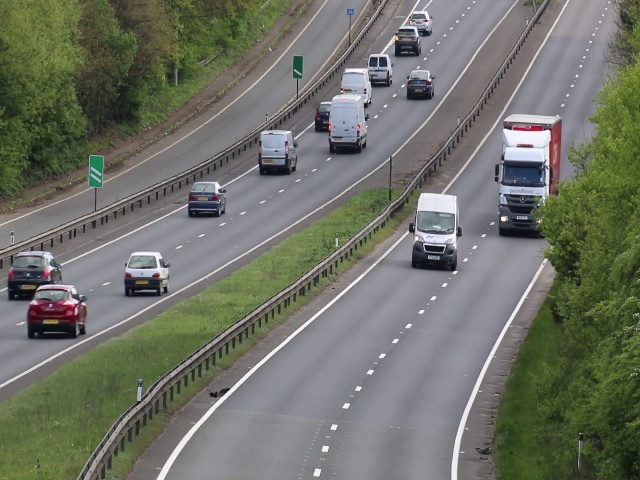car: (495, 116, 561, 236), (411, 190, 459, 272), (27, 283, 89, 341), (7, 251, 63, 298), (329, 95, 368, 152), (124, 250, 171, 296), (257, 129, 299, 175), (185, 181, 227, 218), (339, 69, 373, 104), (406, 68, 435, 99), (367, 52, 393, 86), (394, 24, 422, 55), (313, 99, 331, 133), (409, 9, 431, 31)
